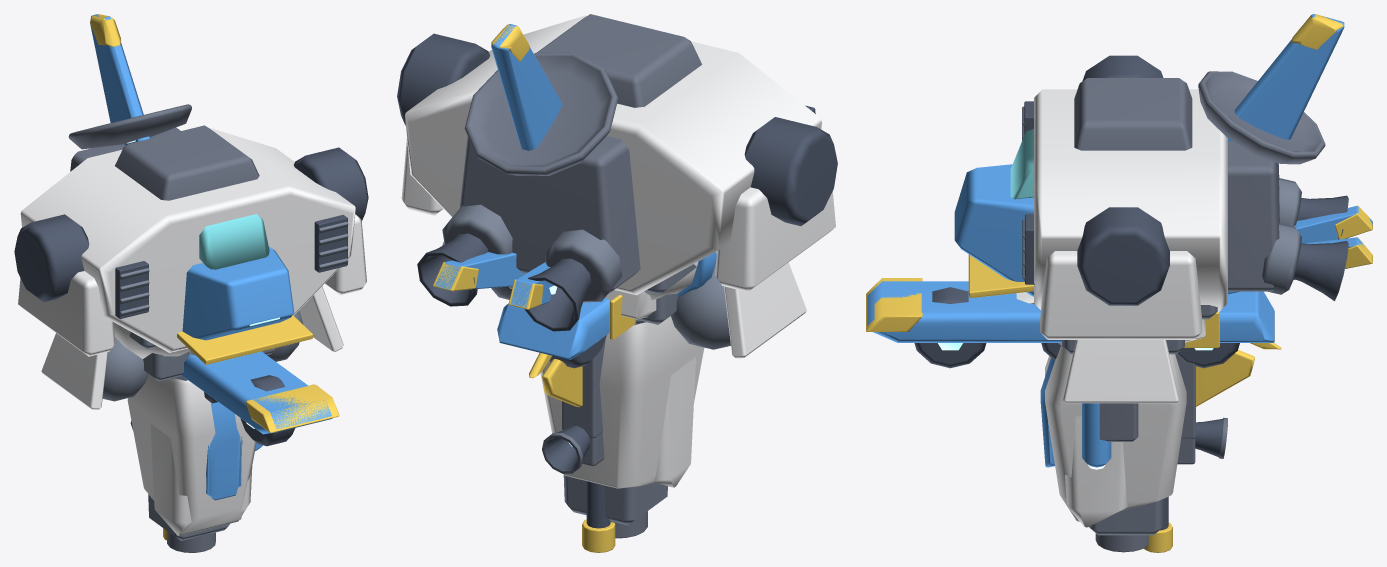
Rendered from daystar.glb.
The picture shows the model from 3 angles, left to right: view 1: azimuth 30°, elevation 25°; view 2: azimuth 150°, elevation 25°; view 3: azimuth 270°, elevation 25°; orthographic projection. The views are drawn at different scales.
Parts seen in each view (by area): view 1: chest/chest/P, chest/chest/D, kneeL/shins/P, chest/chest/S, chest/chest/F, ankleL/feet/S, hips/hips/P, hips/hips/K, chest/backpack/F, chest/chest/T, chest/chest/C, hipL/thighs/P (+9 smaller); view 2: chest/chest/P, chest/backpack/F, kneeL/shins/P, chest/chest/D, chest/chest/F, hips/hips/P, chest/backpack/D, chest/backpack/K, chest/backpack/S, ankleL/feet/S, hips/hips/K, hipL/thighs/P (+16 smaller); view 3: chest/chest/P, chest/backpack/F, ankleL/feet/S, chest/chest/D, kneeL/shins/P, chest/chest/F, hips/hips/P, chest/chest/S, chest/backpack/S, hipL/thighs/P, chest/backpack/D, ankleL/feet/D (+17 smaller).
Boxes of the visible parts, box(x1,y1,x2,y2) form: chest/chest/P: box(18, 128, 366, 356); chest/chest/D: box(14, 147, 368, 318); kneeL/shins/P: box(127, 350, 256, 533); chest/chest/S: box(182, 246, 294, 340); chest/chest/F: box(115, 125, 259, 200); ankleL/feet/S: box(182, 351, 332, 434); hips/hips/P: box(41, 286, 343, 409); hips/hips/K: box(102, 310, 303, 401); chest/backpack/F: box(68, 104, 191, 171); chest/chest/T: box(177, 315, 313, 364); chest/chest/C: box(199, 214, 269, 269); hipL/thighs/P: box(150, 424, 252, 535); chest/chest/P: box(401, 15, 835, 295); chest/backpack/F: box(460, 52, 640, 293); kneeL/shins/P: box(540, 316, 704, 488); chest/chest/D: box(397, 33, 837, 226); chest/chest/F: box(537, 14, 701, 107); hips/hips/P: box(442, 241, 806, 358); chest/backpack/D: box(417, 233, 591, 331); chest/backpack/K: box(442, 204, 622, 302); chest/backpack/S: box(491, 24, 562, 150); ankleL/feet/S: box(497, 298, 609, 359); hips/hips/K: box(491, 267, 730, 349); hipL/thighs/P: box(654, 357, 695, 487); chest/chest/P: box(1034, 89, 1227, 339); chest/backpack/F: box(1198, 71, 1325, 291); ankleL/feet/S: box(867, 281, 1274, 342); chest/chest/D: box(1024, 55, 1169, 305); kneeL/shins/P: box(1045, 343, 1186, 521); chest/chest/F: box(1074, 78, 1192, 150); hips/hips/P: box(1063, 319, 1205, 403); chest/chest/S: box(954, 164, 1033, 296); chest/backpack/S: box(1228, 14, 1344, 164); hipL/thighs/P: box(1065, 416, 1127, 527); chest/backpack/D: box(1293, 195, 1348, 301); ankleL/feet/D: box(914, 287, 1239, 368).
Size of the model in its own units: 3.44 by 4.82 by 4.16.
